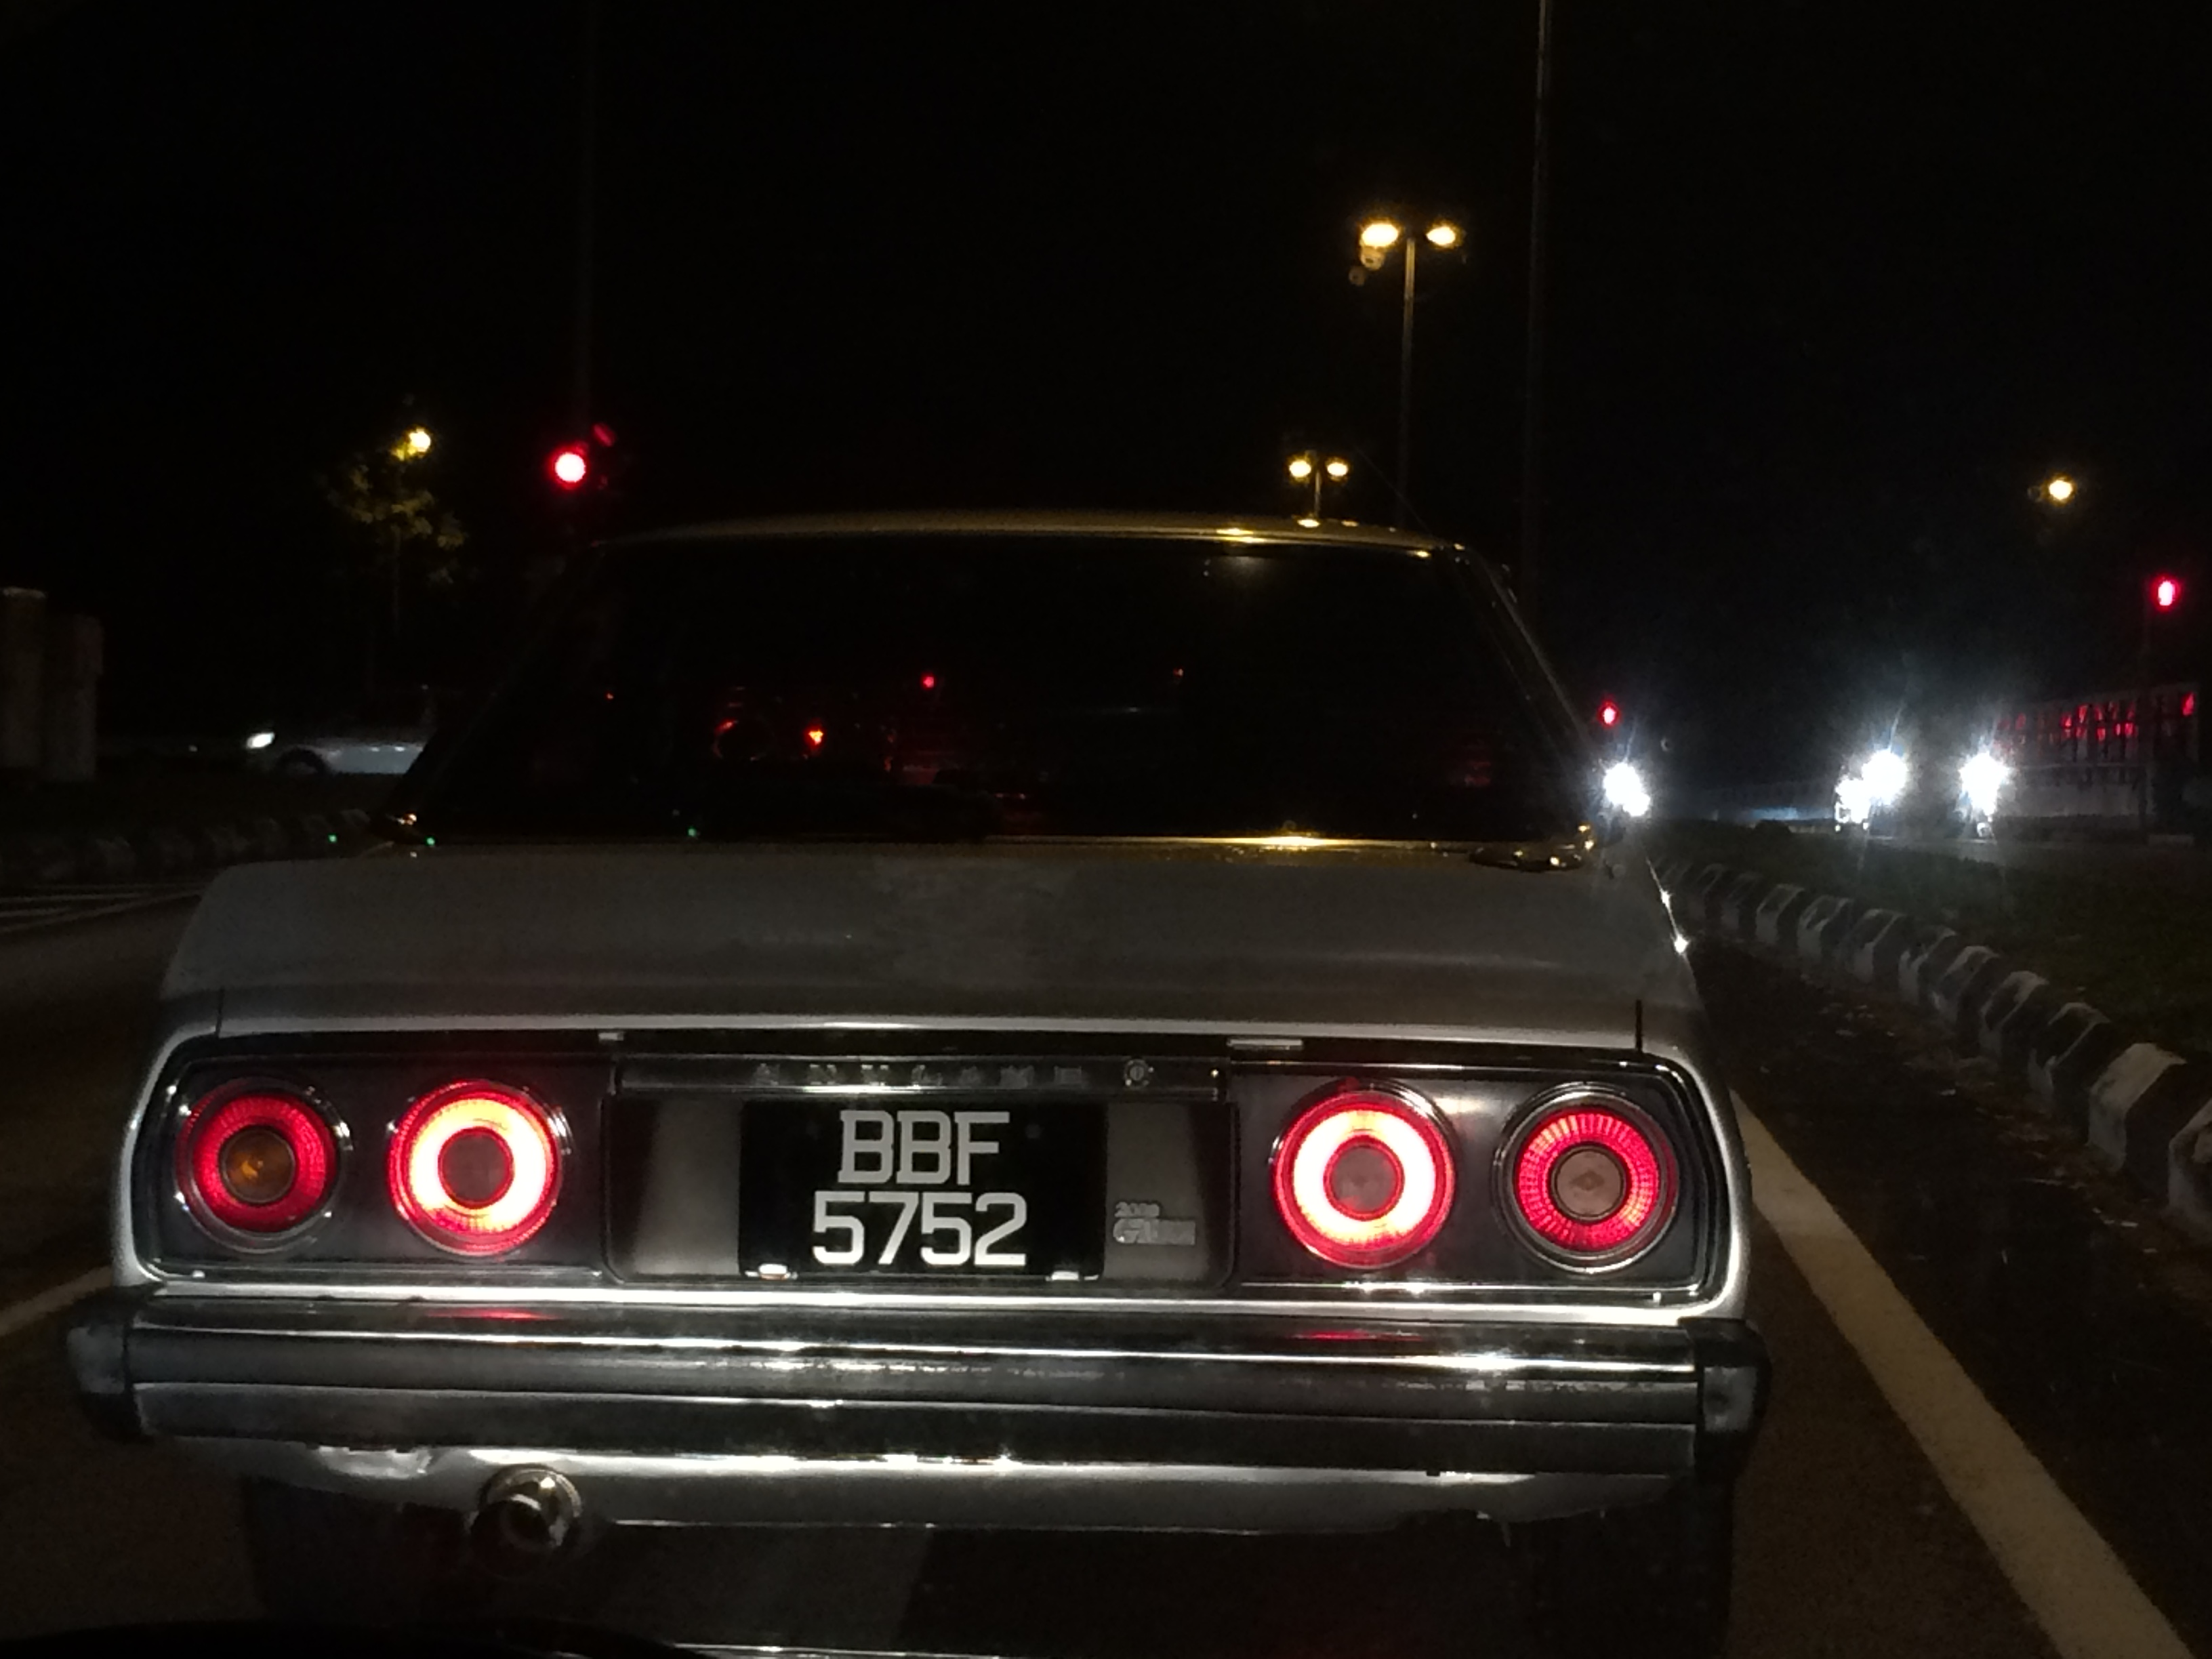car: (38, 467, 1848, 1614)
